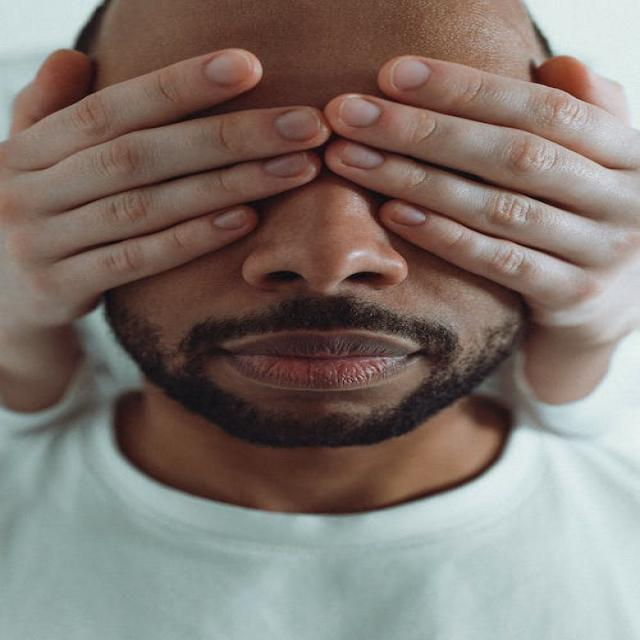Nail: (202, 51, 252, 87), (274, 110, 322, 141), (389, 57, 431, 91), (338, 97, 381, 127), (264, 151, 311, 178), (342, 142, 385, 169), (387, 201, 428, 225), (214, 208, 255, 230)
